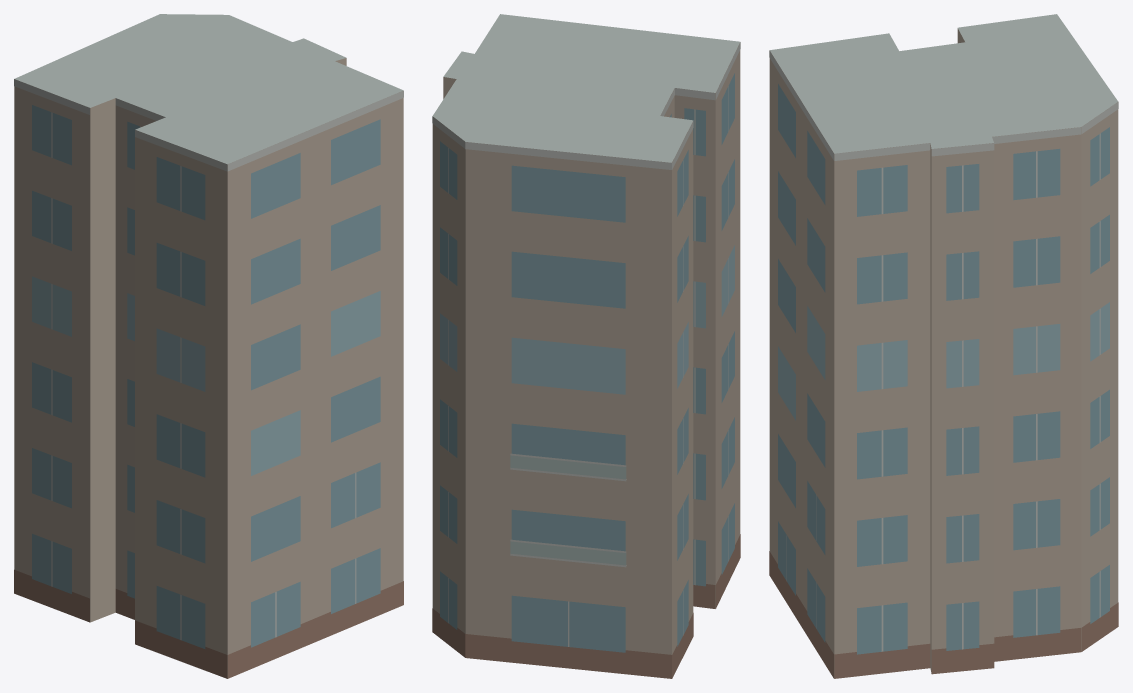
The model's file is survey-upis-32928458.glb.
3 views of the same model, side by side, from view 1: azimuth 30°, elevation 25°; view 2: azimuth 150°, elevation 25°; view 3: azimuth 270°, elevation 25° (orthographic). The views are drawn at different scales.
Parts seen in each view (by area): view 1: survey-upis-32928458.tmp; view 2: survey-upis-32928458.tmp; view 3: survey-upis-32928458.tmp.
Boxes of the visible parts, x1,y1,x2,y2 form: survey-upis-32928458.tmp: (14, 14, 403, 678); survey-upis-32928458.tmp: (432, 14, 740, 678); survey-upis-32928458.tmp: (769, 14, 1118, 678).
Size of the model in its own units: 9.82 by 17.2 by 10.36.
